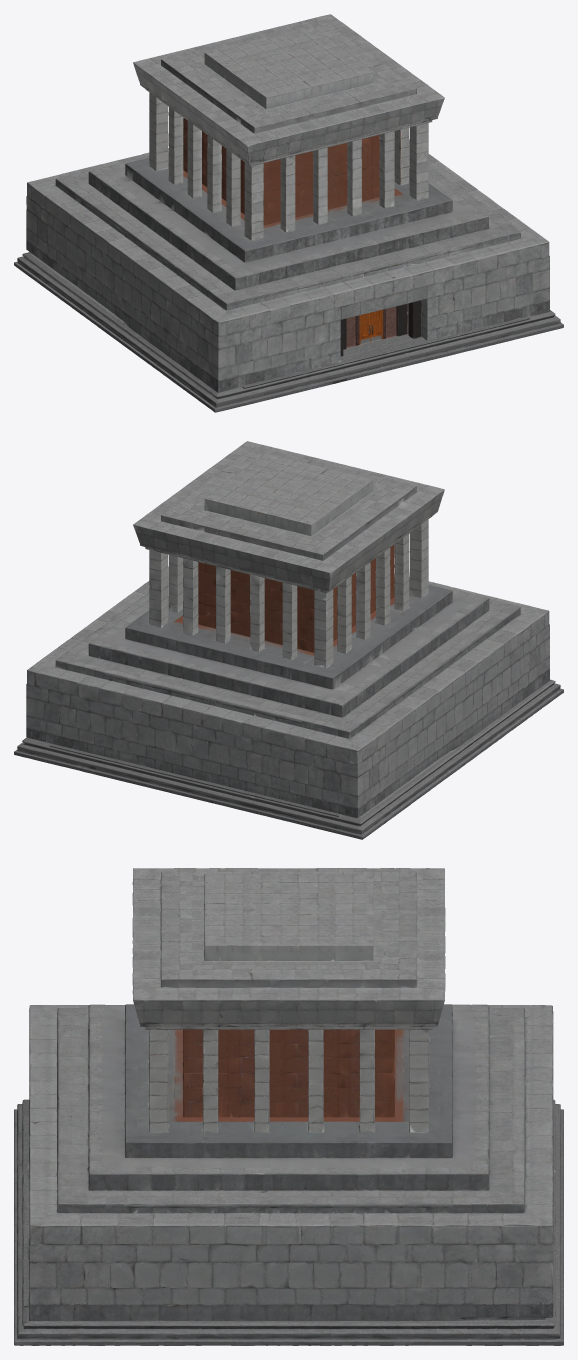
File: lang-bac.glb
3 views of the same model, one above another, from view 1: azimuth 30°, elevation 25°; view 2: azimuth 150°, elevation 25°; view 3: azimuth 270°, elevation 25° (orthographic). The views are drawn at different scales.
Size of the model in its own units: 1 by 0.6433 by 1.
Materials: 1 (1 with a texture image).
